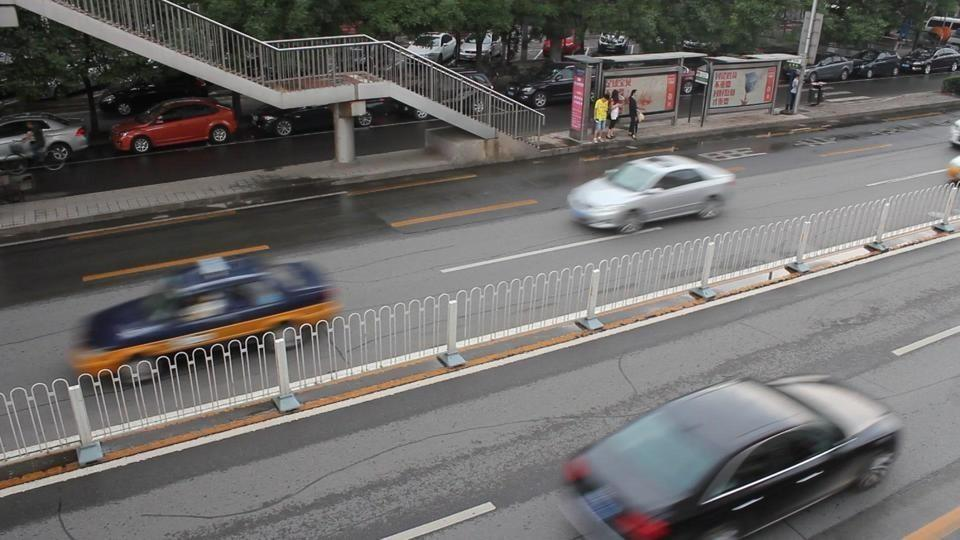car: (556, 375, 906, 537), (64, 250, 347, 384), (568, 152, 736, 233), (108, 97, 240, 154), (0, 114, 90, 166), (502, 65, 583, 109), (0, 141, 38, 201), (407, 32, 459, 64), (845, 52, 902, 80), (904, 48, 960, 75), (803, 56, 858, 81), (537, 33, 580, 58), (585, 33, 633, 55)
